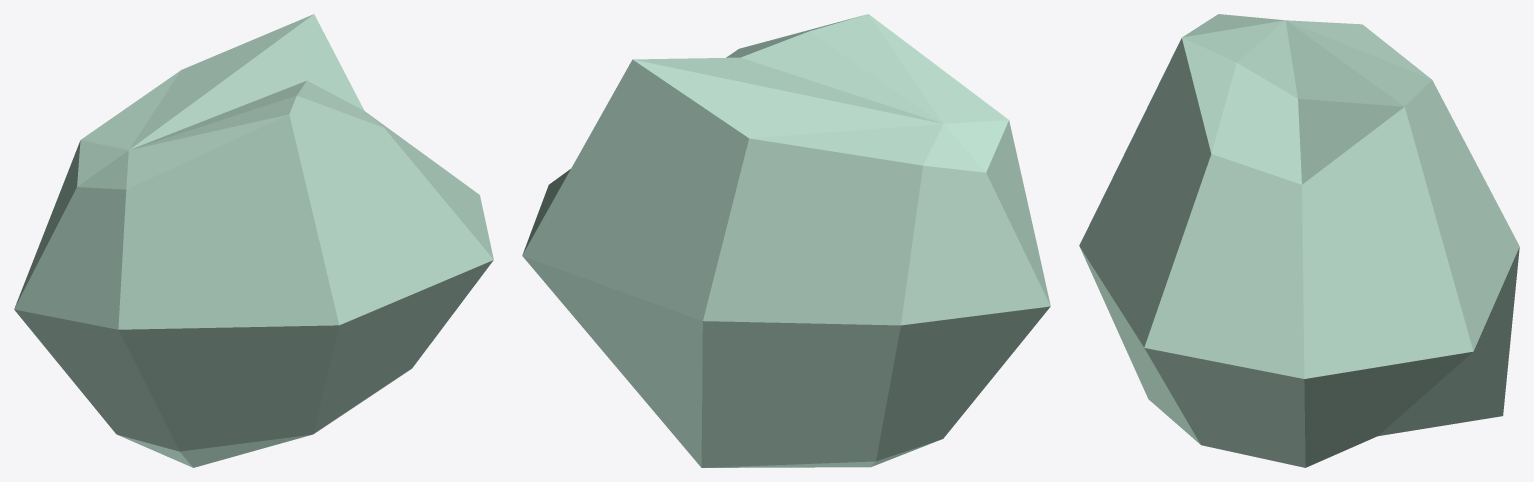
File: Rock5.FBX
3 renders of one model, left to right at view 1: azimuth 30°, elevation 25°; view 2: azimuth 150°, elevation 25°; view 3: azimuth 270°, elevation 25°, orthographic. The views are drawn at different scales.
Parts seen in each view (by area): view 1: Sphere005; view 2: Sphere005; view 3: Sphere005.
Boxes of the visible parts, box(x1,y1,x2,y2) form: Sphere005: box(14, 14, 493, 467); Sphere005: box(522, 14, 1050, 467); Sphere005: box(1079, 14, 1519, 467).
Size of the model in its own units: 75.56 by 58.15 by 54.01.
